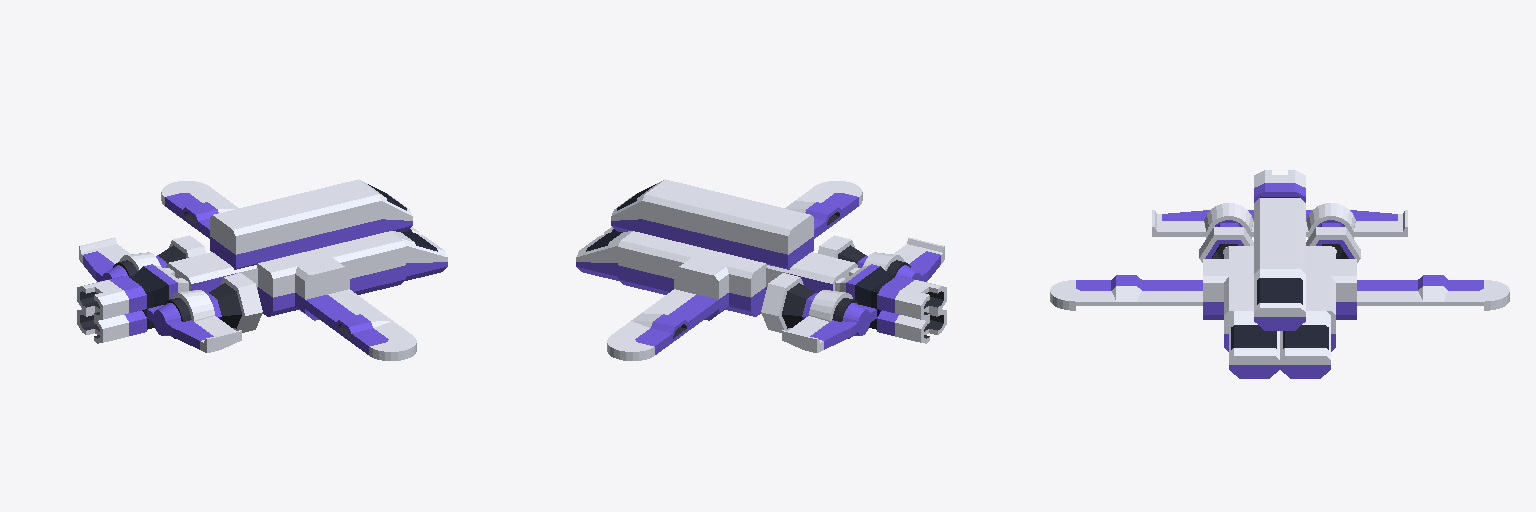
File: ShipExterior.obj
The picture shows the model from 3 angles: view 1: azimuth 30°, elevation 25°; view 2: azimuth 150°, elevation 25°; view 3: azimuth 270°, elevation 25°; orthographic projection.
Visible parts, largest first — view 1: mergedBlocks; view 2: mergedBlocks; view 3: mergedBlocks.
Boxes of the visible parts, box(x1,y1,x2,y2) form: mergedBlocks: box(77, 179, 447, 360); mergedBlocks: box(576, 179, 946, 360); mergedBlocks: box(1050, 170, 1509, 378).
Bounding box in the file's own units: 7.5 × 1.8 × 9.